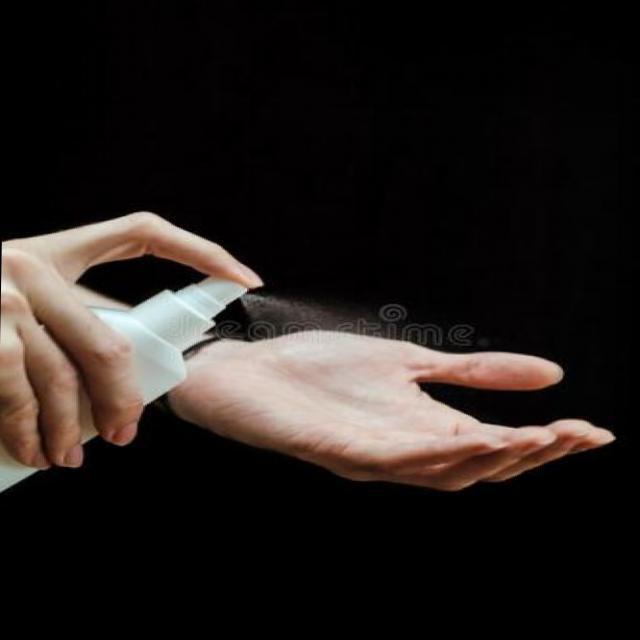sanitizer: (87, 264, 264, 408)
